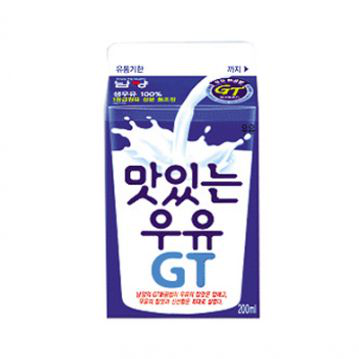milk: (106, 40, 262, 320)
